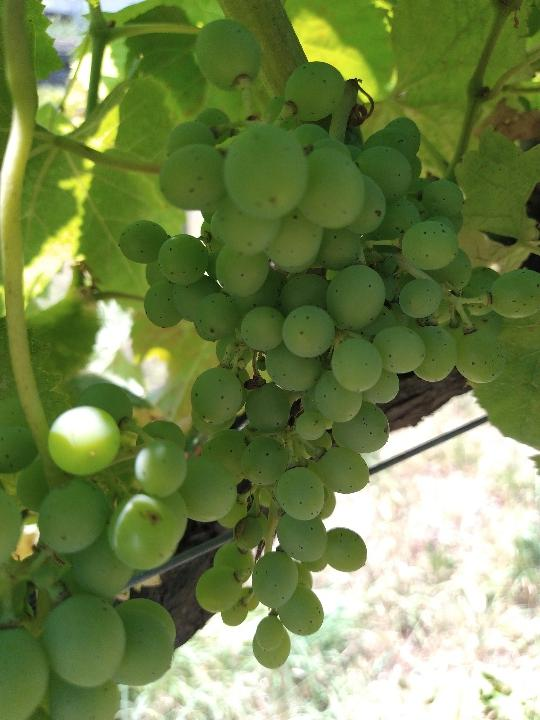grape: (117, 19, 538, 673)
